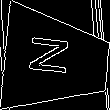N_E: (31, 38, 82, 84)
